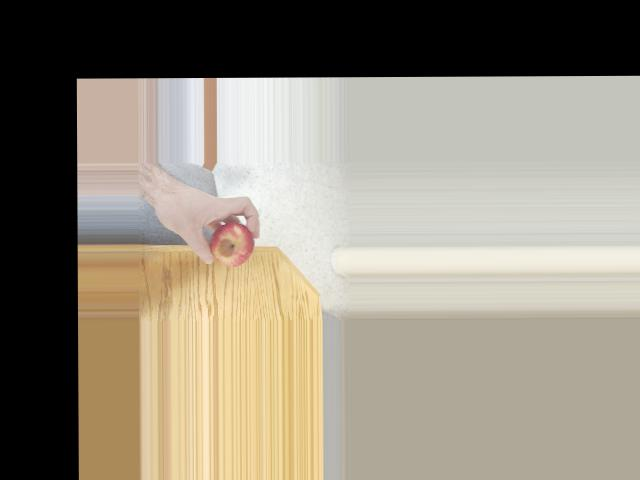apple: (201, 223, 255, 267)
